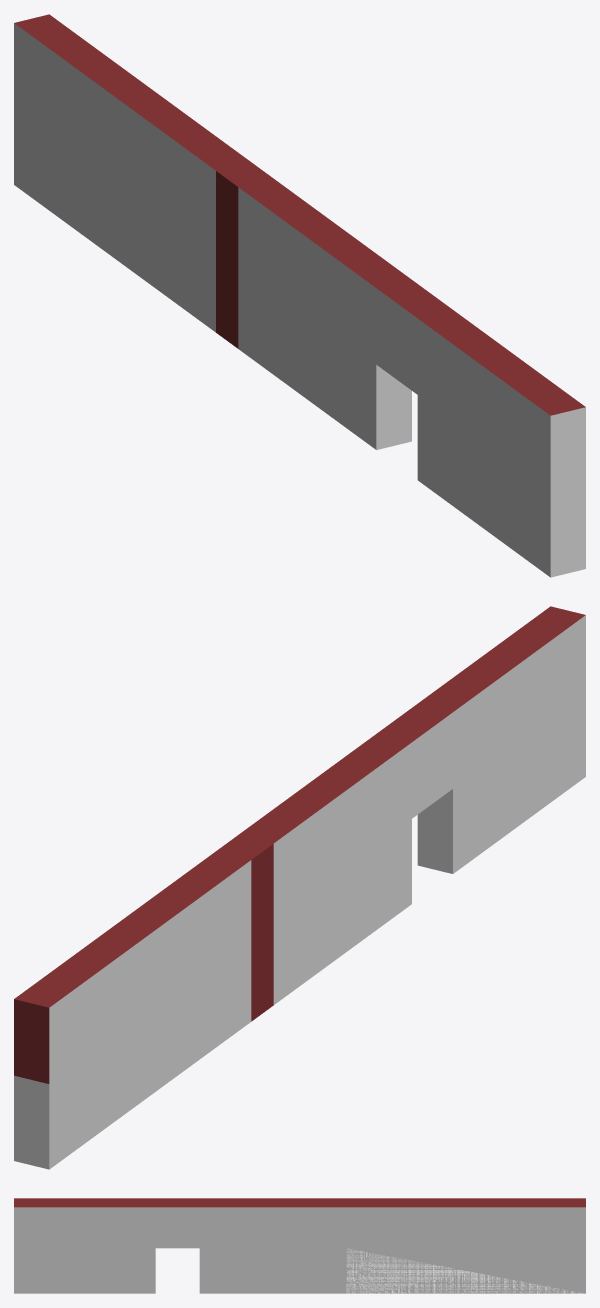
File: wall4.fbx
3 views of the same model, one above another, from view 1: azimuth 30°, elevation 25°; view 2: azimuth 150°, elevation 25°; view 3: azimuth 270°, elevation 25° (orthographic). The views are drawn at different scales.
Parts seen in each view (by area): view 1: Walls.001; view 2: Walls.001; view 3: Walls.001.
Part boxes in pixels (x1,y1,x2,y2): Walls.001: (14,14,585,577); Walls.001: (14,606,585,1169); Walls.001: (14,1198,585,1293).
Bounding box in the file's own units: 173 × 755 × 4538.
